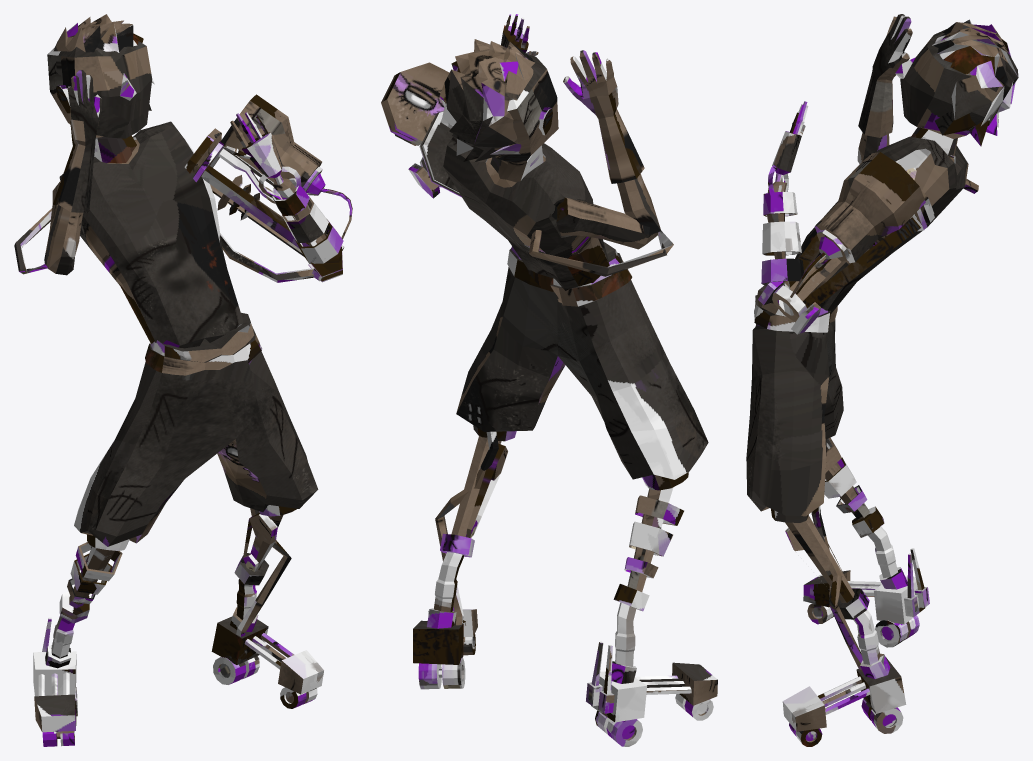
Rendered from CyborgFINALAnimation_000015.obj.
3 renders of one model, left to right at view 1: azimuth 30°, elevation 25°; view 2: azimuth 150°, elevation 25°; view 3: azimuth 270°, elevation 25°, orthographic. The views are drawn at different scales.
Visible parts, largest first — view 1: CyborgMesh_Cube.002; view 2: CyborgMesh_Cube.002; view 3: CyborgMesh_Cube.002.
Part boxes in pixels (x1,y1,x2,y2): CyborgMesh_Cube.002: (14, 14, 352, 746); CyborgMesh_Cube.002: (381, 14, 717, 746); CyborgMesh_Cube.002: (746, 14, 1018, 746).
Size of the model in its own units: 4.28 by 8.87 by 3.32.
